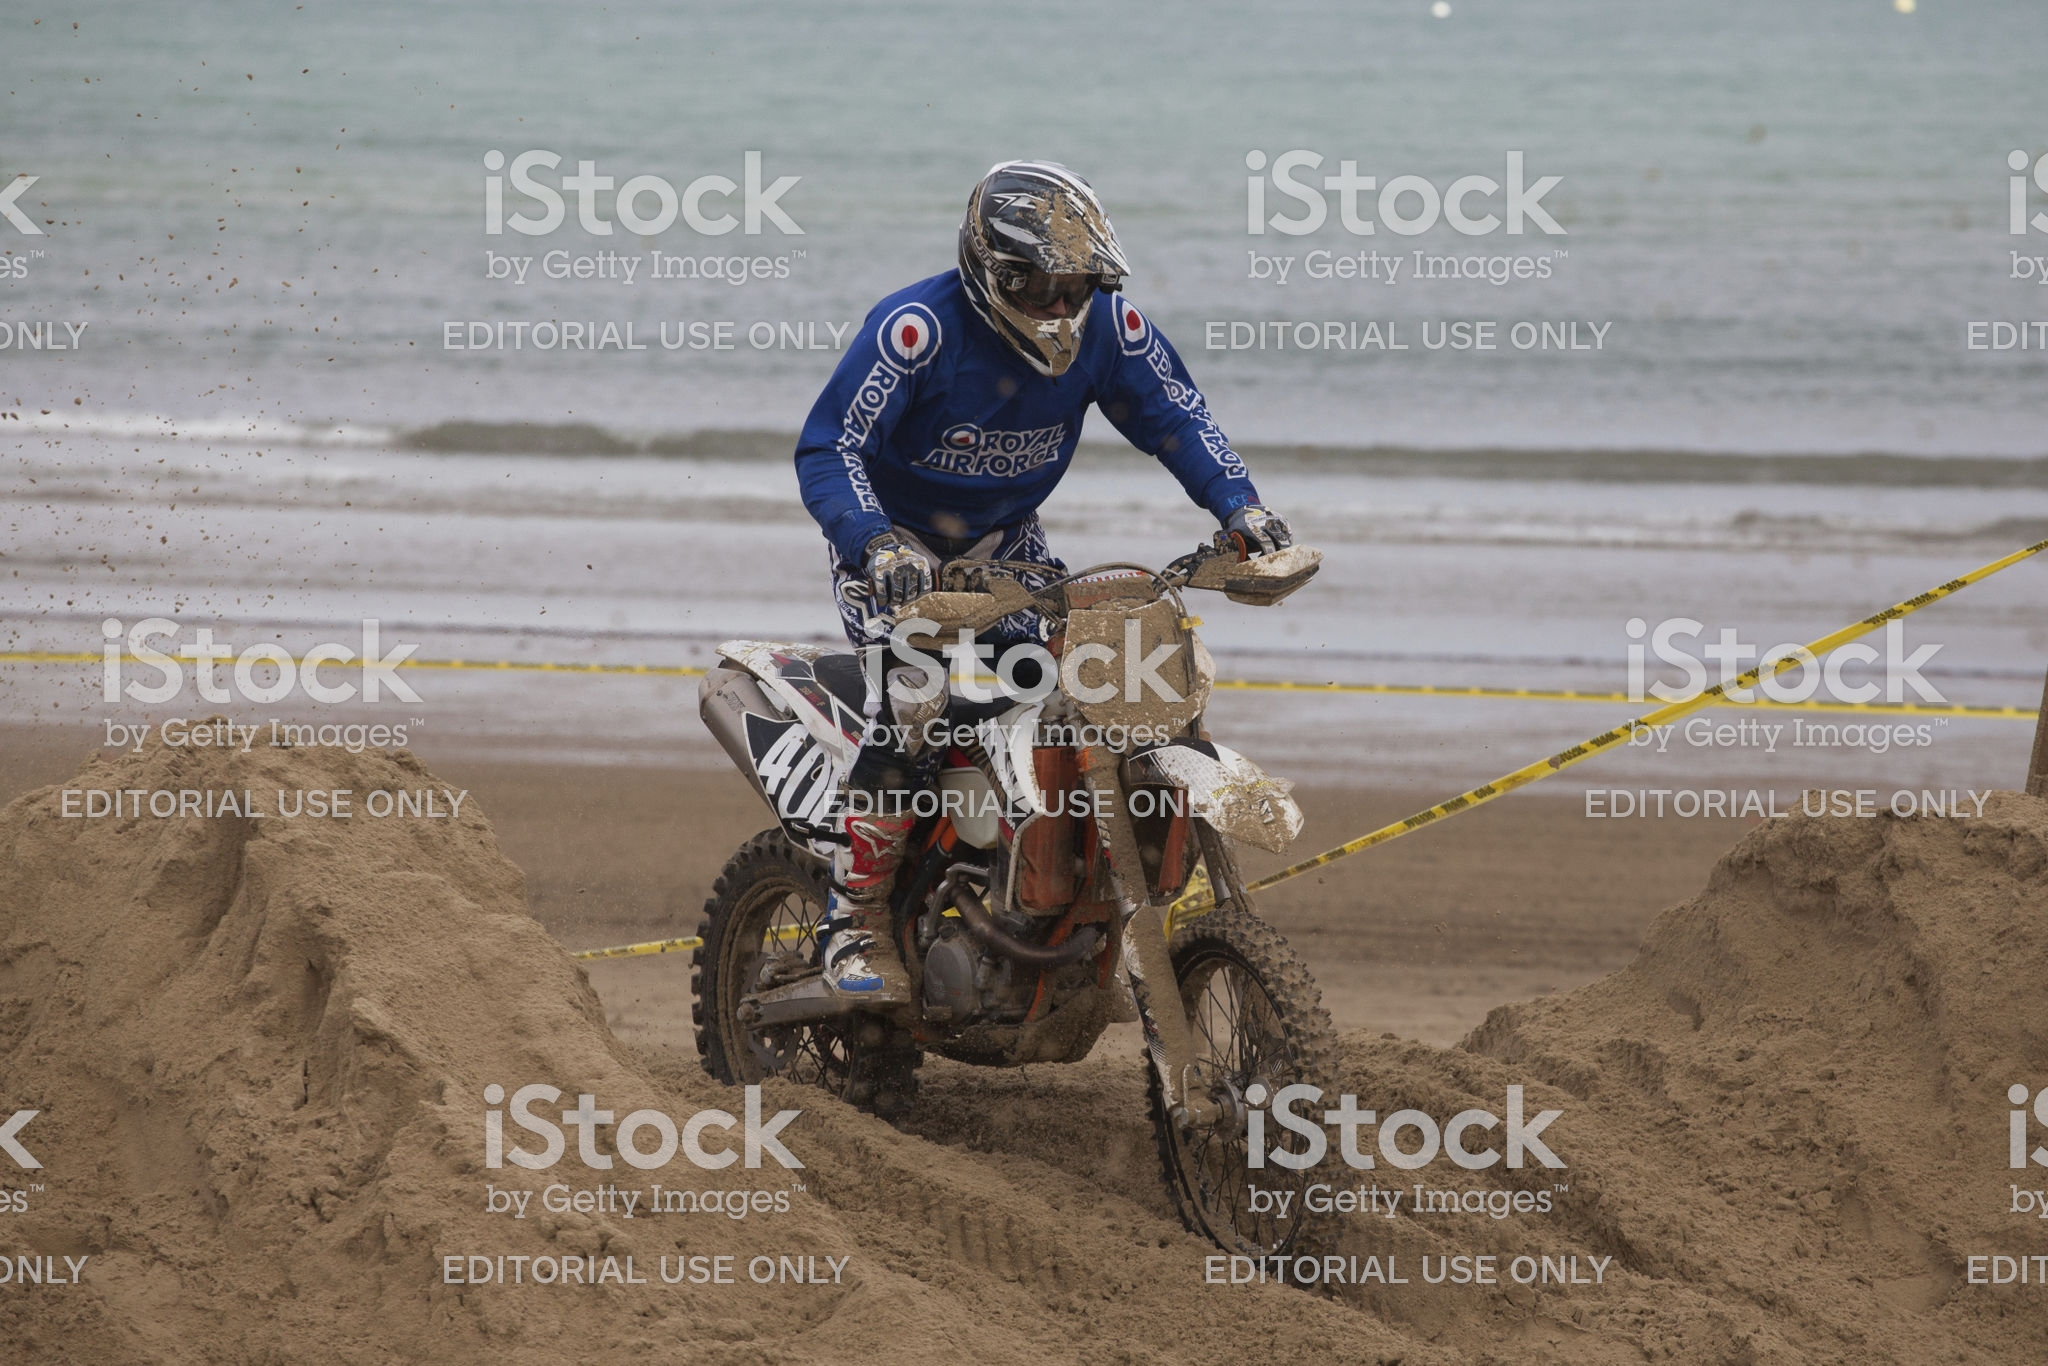helmet: (949, 143, 1122, 351)
